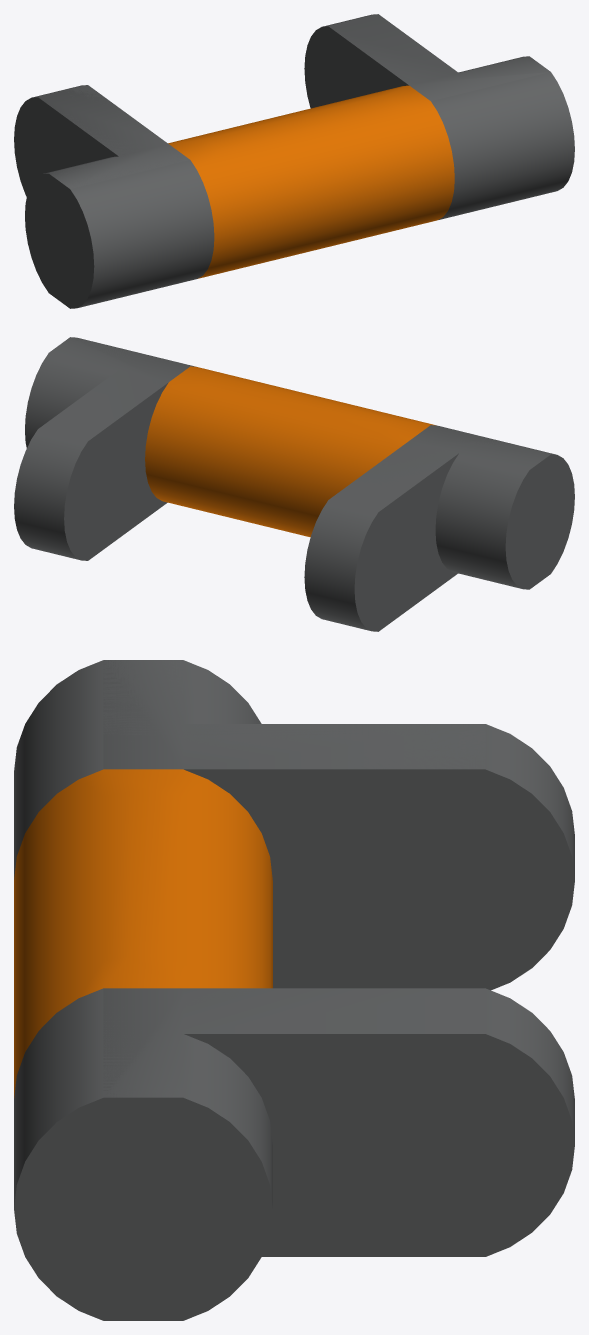
3 views of the same model, one above another, from view 1: azimuth 30°, elevation 25°; view 2: azimuth 150°, elevation 25°; view 3: azimuth 270°, elevation 25° (orthographic). The views are drawn at different scales.
Visible parts, largest first — view 1: f1_LOD0, f1_col; view 2: f1_LOD0, f1_col; view 3: f1_LOD0, f1_col.
Boxes of the visible parts, left/top/right/bottom form: f1_LOD0: left=14, top=14, right=574, bottom=308; f1_col: left=14, top=14, right=548, bottom=307; f1_LOD0: left=14, top=337, right=574, bottom=631; f1_col: left=38, top=337, right=574, bottom=631; f1_LOD0: left=14, top=660, right=574, bottom=1320; f1_col: left=14, top=660, right=574, bottom=1320.
Size of what is drawn, in the model's own units: 48 by 11.93 by 26.
